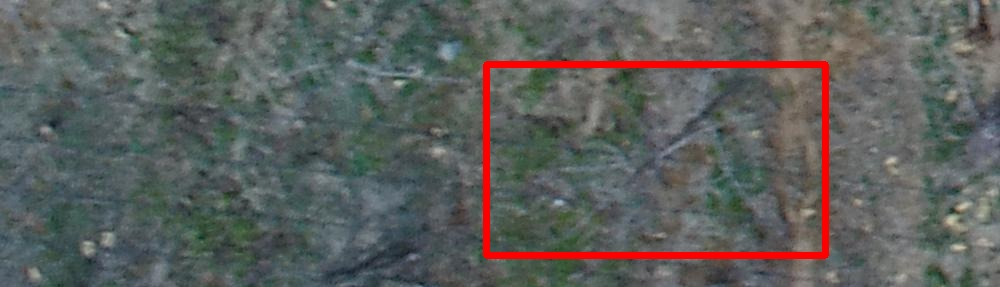apple: (486, 64, 825, 255)
